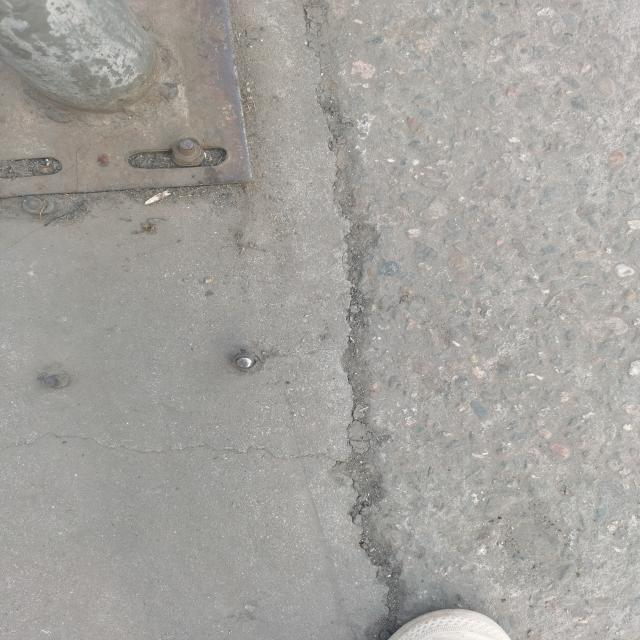bolt nut: (169, 138, 205, 165), (230, 351, 261, 373)
